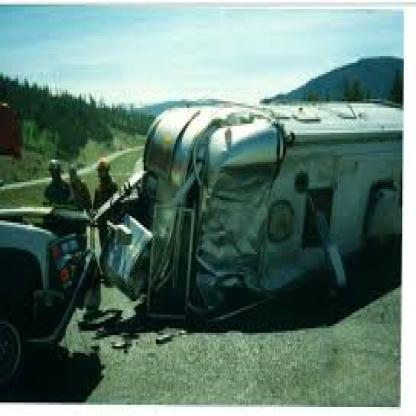accident: (42, 82, 409, 333)
